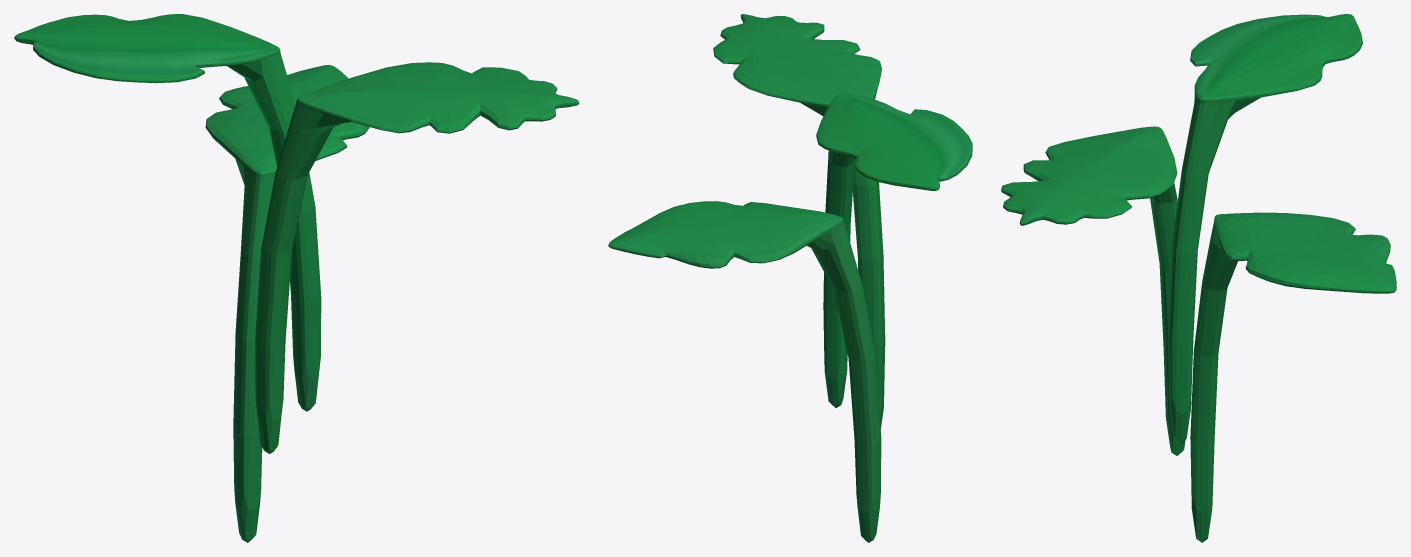
Rendered from SM_Crop_Carrot_Stage_Seed.fbx.
3 views of the same model, side by side, from view 1: azimuth 30°, elevation 25°; view 2: azimuth 150°, elevation 25°; view 3: azimuth 270°, elevation 25° (orthographic). The views are drawn at different scales.
Parts seen in each view (by area): view 1: SM_Crop_Carrot_ST1; view 2: SM_Crop_Carrot_ST1; view 3: SM_Crop_Carrot_ST1.
Boxes of the visible parts, <box> form: SM_Crop_Carrot_ST1: <box>14,14,579,542</box>; SM_Crop_Carrot_ST1: <box>608,14,972,542</box>; SM_Crop_Carrot_ST1: <box>1001,14,1396,542</box>.
Bounding box in the file's own units: 66.9 × 80.7 × 62.3.
1 material, 1 textured.
